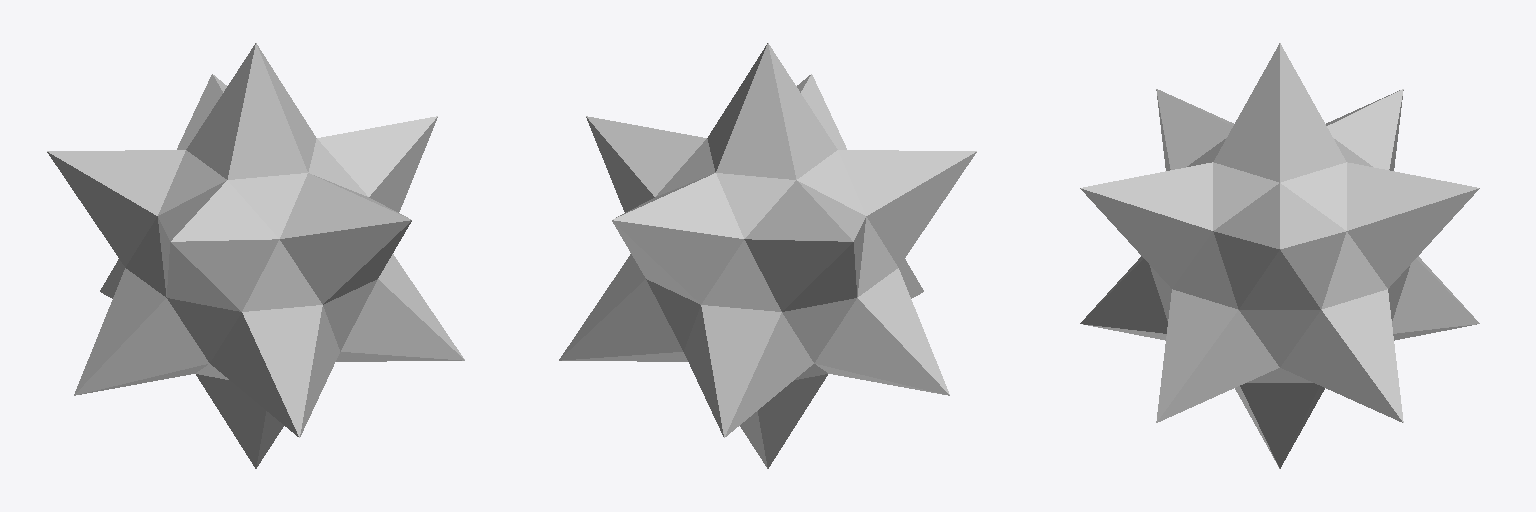
File: spike.obj
The picture shows the model from 3 angles: view 1: azimuth 30°, elevation 25°; view 2: azimuth 150°, elevation 25°; view 3: azimuth 270°, elevation 25°; orthographic projection.
Parts seen in each view (by area): view 1: Icosphere; view 2: Icosphere; view 3: Icosphere.
Part boxes in pixels (x1,y1,x2,y2): Icosphere: (47,43,464,468); Icosphere: (559,43,976,468); Icosphere: (1080,43,1479,468).
Size of the model in its own units: 2.15 by 2.4 by 2.04.